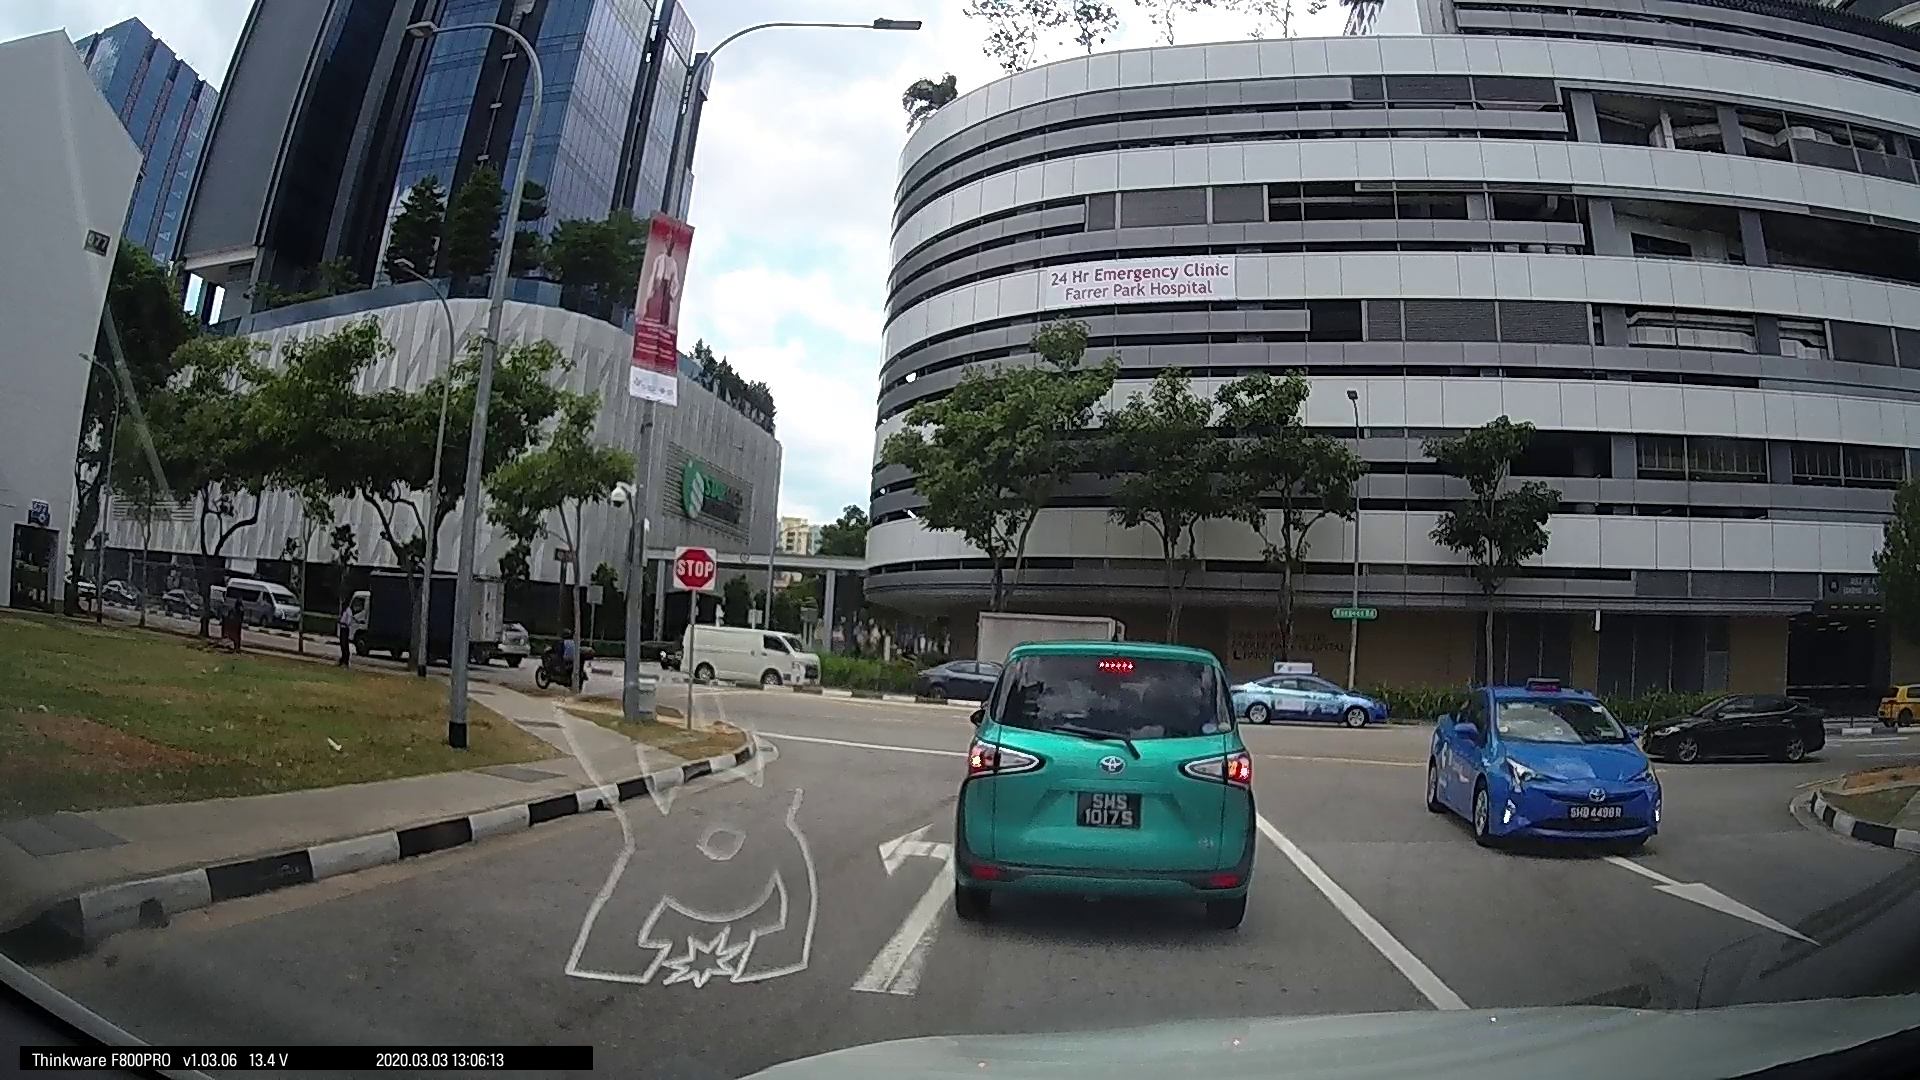Heavy Vehicle: (378, 567, 518, 669)
Light Vehicle: (942, 624, 1251, 931), (1416, 676, 1662, 858), (1656, 687, 1825, 764), (670, 618, 822, 690), (1240, 663, 1377, 727), (914, 653, 1000, 700)
